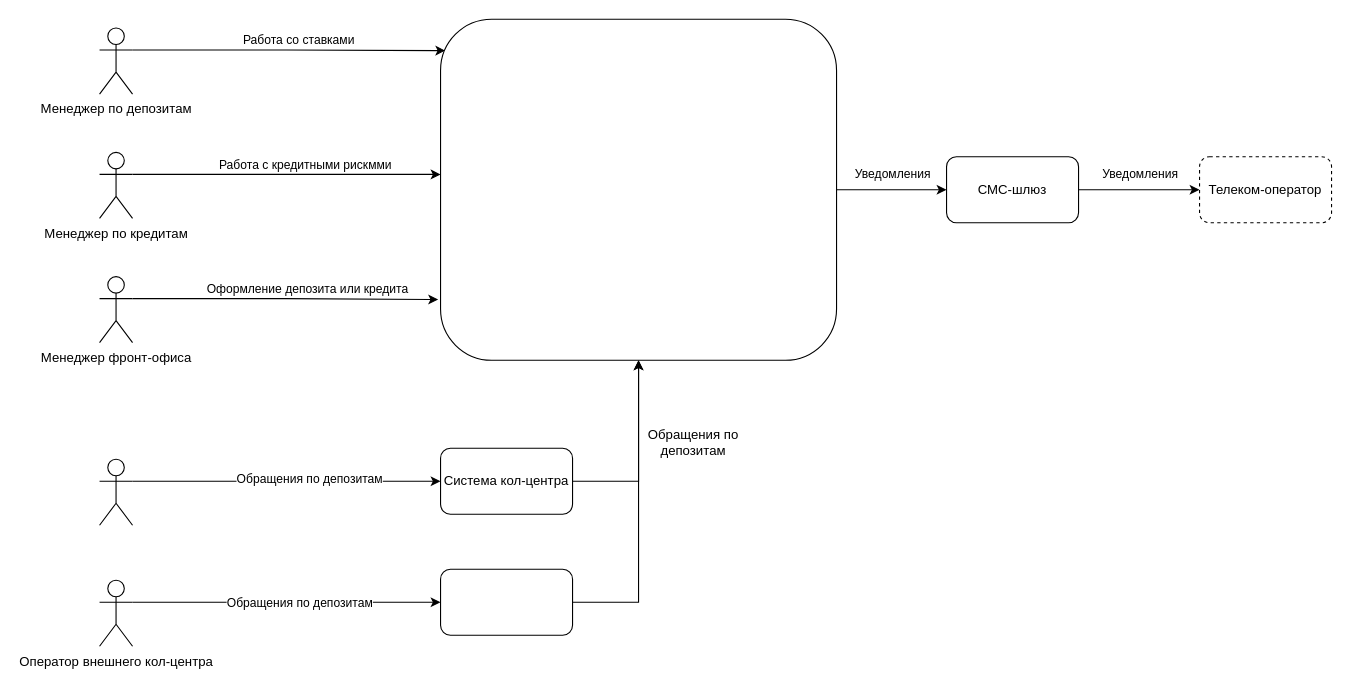
Some shapes in this 1351 by 689 pixel diagram are drawn without their labels. The centre of each missing label's shape, as x and y in pixels:
"Автоматизированная банковская система" goes at [638,189].
"Оператор кол-центра банка" goes at [115,491].
"Система партнерского кол-центра" goes at [506,601].
